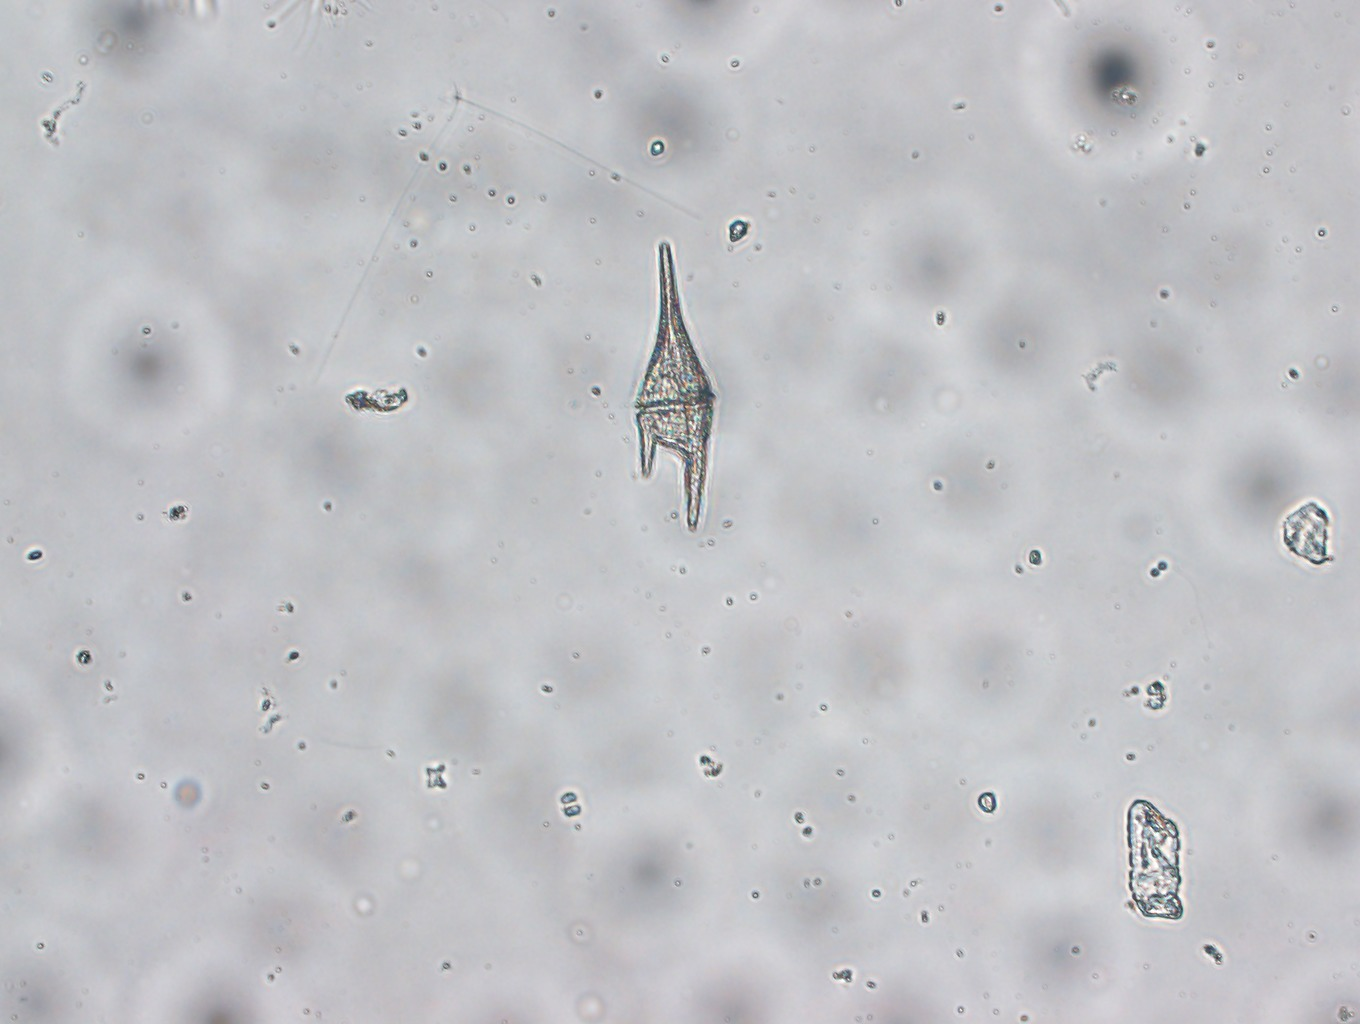ceratium furca: (613, 234, 730, 535)
